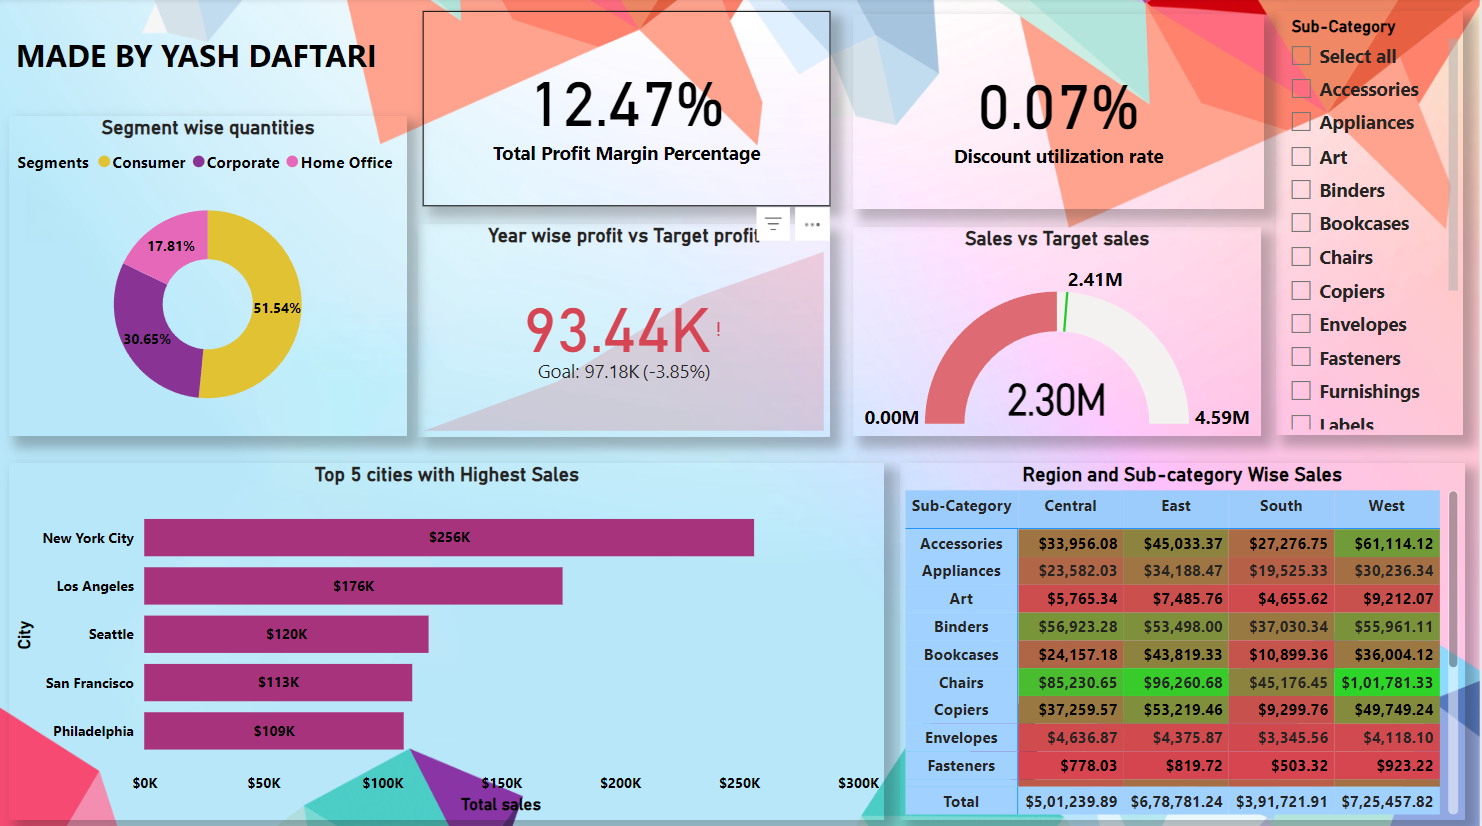

This screenshot's page, from the dashboard's own definition file:
{"tool":"powerbi","page":{"name":"Analysis Page 1","canvas":[1280,720],"ordinal":0},"visuals":[{"type":"textbox","box":[10,11.4,322.9,90],"z":0},{"type":"donutChart","title":"Segment wise quantities","fields":{"Category":["Orders.Segment"],"Y":["Sum(Orders.Quantity)"]},"box":[10,101.7,343.3,276.7],"z":1000},{"type":"barChart","title":" Top 5 cities with Highest Sales ","fields":{"Category":["Orders.City"],"Y":["Sum(Orders.Sales)"]},"box":[10,401.2,756.2,308.8],"z":2000},{"type":"pivotTable","title":"Region and Sub-category Wise Sales","fields":{"Columns":["Orders.Region"],"Values":["Sum(Orders.Sales)"],"Rows":["Orders.Sub-Category"]},"box":[778.9,401.1,487.8,308.9],"z":4000},{"type":"kpi","title":"Year wise profit vs Target profit ","fields":{"Indicator":["Orders.total profit"],"Goal":["Orders.Target profit"],"TrendLine":["Orders.Order Date.Variation.Date Hierarchy.Year"]},"box":[363.6,194.9,355.4,183.9],"z":5001},{"type":"gauge","title":"Sales vs Target sales","fields":{"Y":["Orders.Total sales"],"TargetValue":["Orders.Target sales"]},"box":[738.3,197.6,352.7,181.1],"z":5002},{"type":"card","fields":{"Values":["Orders.Discount utilization rate"]},"box":[738.3,13.7,355.4,168.8],"z":5003},{"type":"card","fields":{"Values":["Orders.Profit Margin Percentage"]},"box":[366.4,11,352.7,168.8],"z":5004},{"type":"slicer","fields":{"Values":["Orders.Sub-Category"]},"box":[1104.6,11,161.9,366.4],"z":5005}]}

Visuals, with their boxes in screenshot pixels (x1, y1, x2, y2), scaled from the page's 1280x720 canvas onto the 1482x826 screenshot:
textbox: l=12, t=13, r=385, b=116
"Segment wise quantities" donutChart: l=12, t=117, r=409, b=434
" Top 5 cities with Highest Sales " barChart: l=12, t=460, r=887, b=815
"Region and Sub-category Wise Sales" pivotTable: l=902, t=460, r=1467, b=815
"Year wise profit vs Target profit " kpi: l=421, t=224, r=832, b=435
"Sales vs Target sales" gauge: l=855, t=227, r=1263, b=434
card - Orders.Discount utilization rate: l=855, t=16, r=1266, b=209
card - Orders.Profit Margin Percentage: l=424, t=13, r=833, b=206
slicer - Orders.Sub-Category: l=1279, t=13, r=1466, b=433
